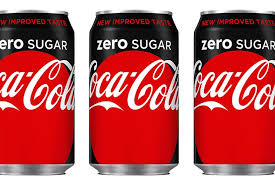coke-can-zero: (82, 7, 180, 176), (191, 7, 274, 175)
